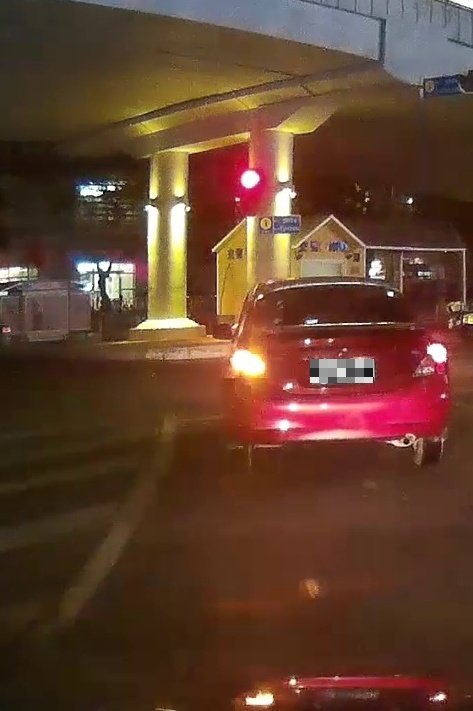L_light: (231, 350, 268, 379)
R_light: (412, 343, 448, 378)
T_light: (313, 284, 341, 291)
night-left: (223, 276, 450, 467)
plate_1: (310, 359, 374, 383)
